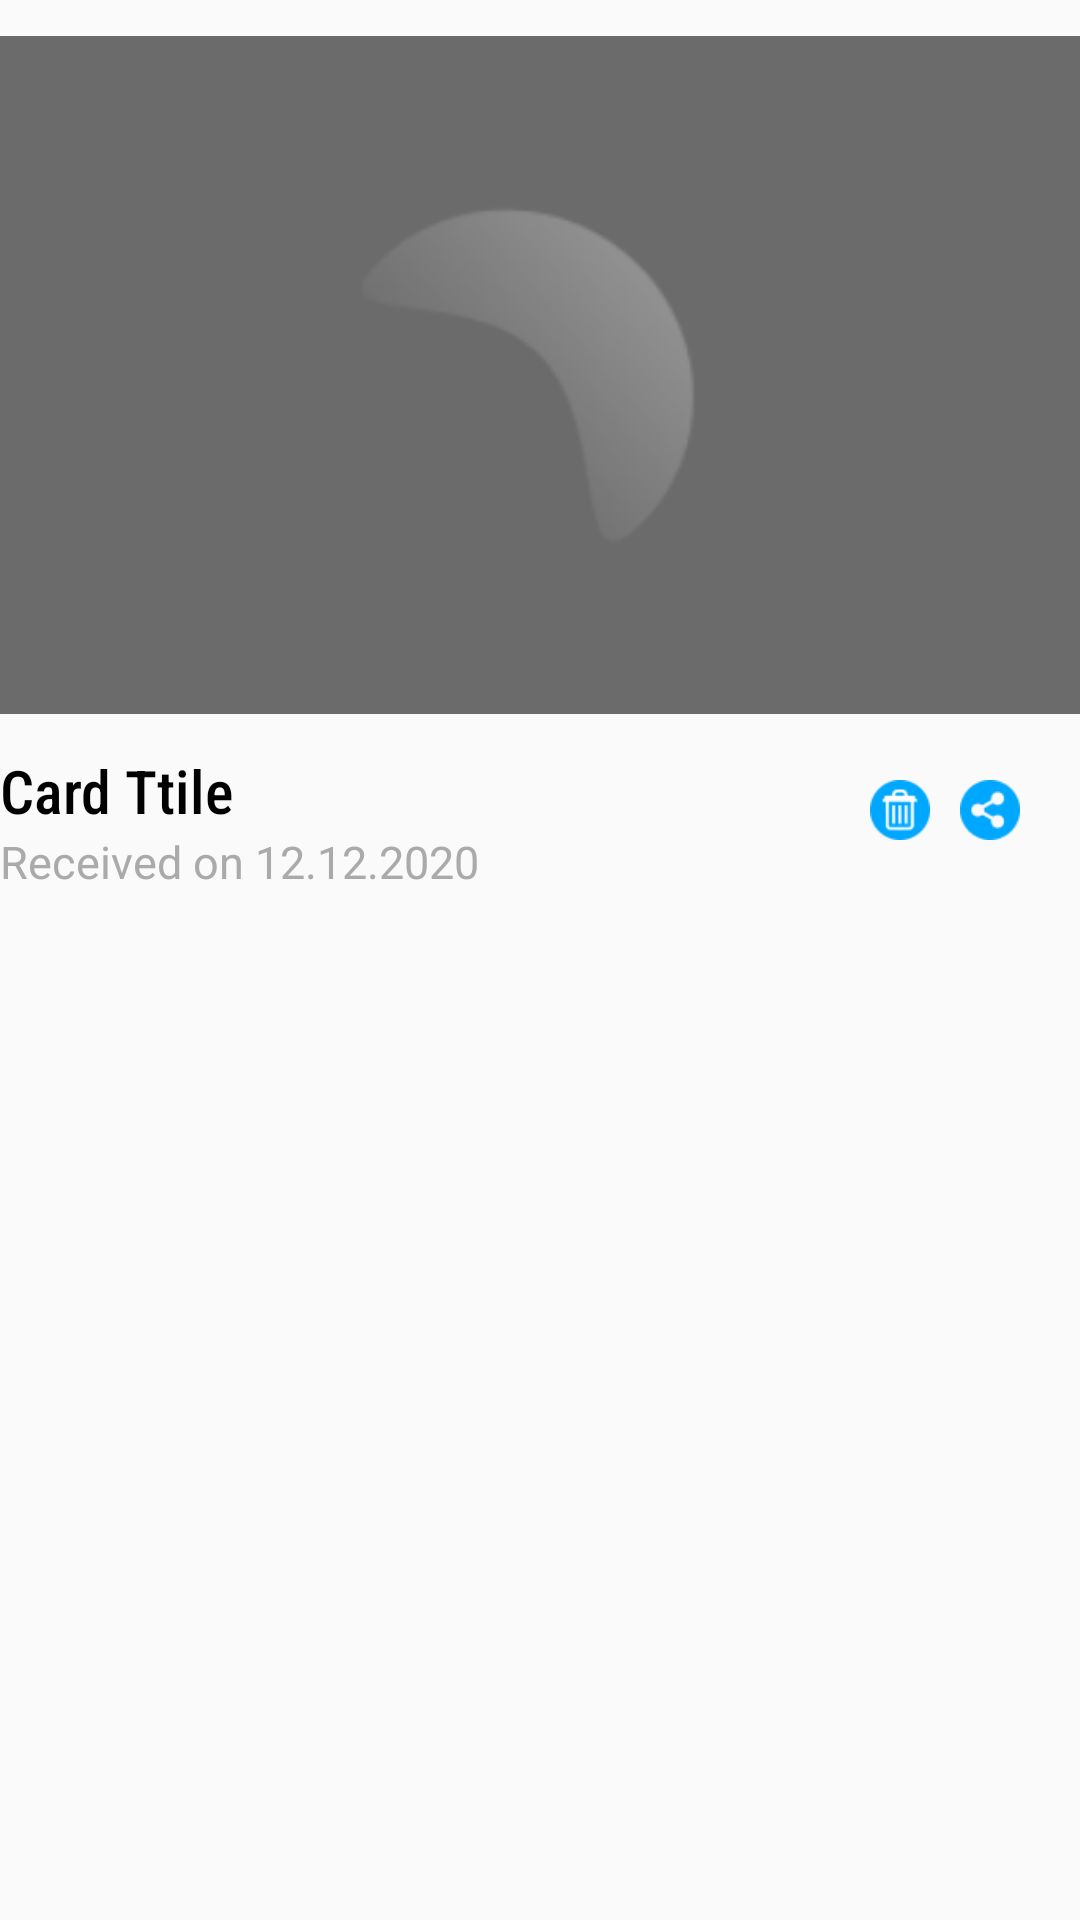

Locate icon controls on the screen. Image size 1080*1920, boxes as {"x1": x1, "y1": y1, "x2": x2, "y2": y2}.
delete: {"x1": 870, "y1": 780, "x2": 930, "y2": 840}
share: {"x1": 960, "y1": 780, "x2": 1020, "y2": 840}
